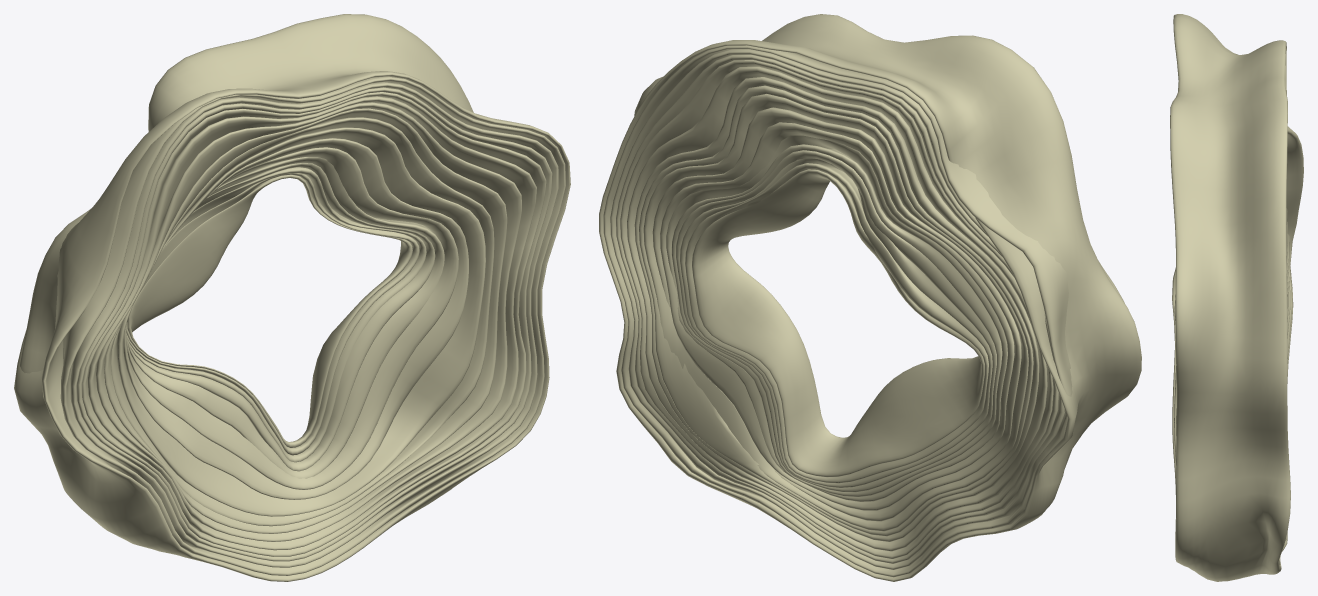
The picture shows the model from 3 angles, left to right: view 1: azimuth 30°, elevation 25°; view 2: azimuth 150°, elevation 25°; view 3: azimuth 270°, elevation 25°; orthographic projection. The views are drawn at different scales.
Parts seen in each view (by area): view 1: srink_model; view 2: srink_model; view 3: srink_model.
Part boxes in pixels (bbox=[...]): srink_model: bbox=[14, 14, 570, 581]; srink_model: bbox=[599, 14, 1141, 581]; srink_model: bbox=[1170, 14, 1303, 581].
Size of the model in its own units: 2.74 by 2.6 by 0.645.
